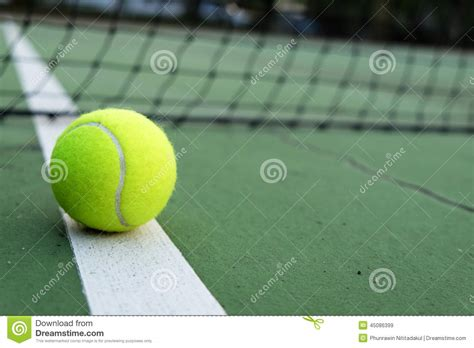tennis_ball: (48, 107, 178, 233)
